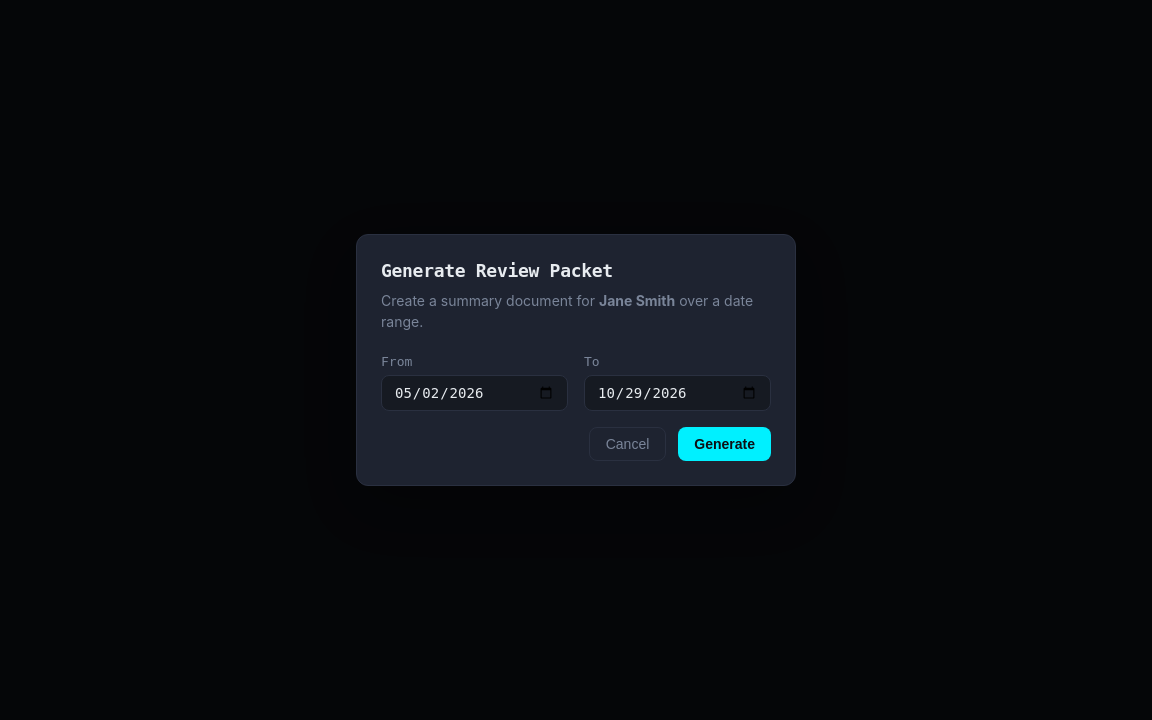
Scenario: ReviewPacketModal › should show validation error when dateTo is before dateFrom
The width and height of the screenshot is (1152, 720).
In the date field with test id "review-date-from": (474, 393) x1=381 y1=375 x2=568 y2=411, type "2024-06-30"
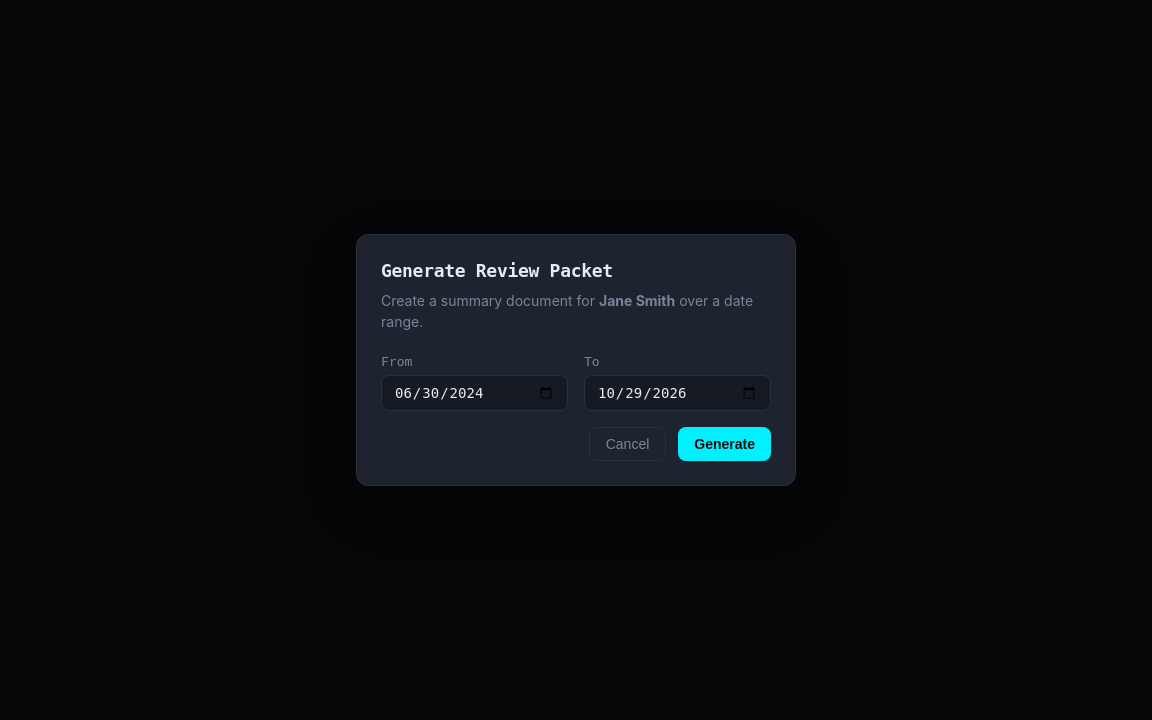
In the date field with test id "review-date-to": (678, 393) x1=584 y1=375 x2=771 y2=411, type "2024-01-01"
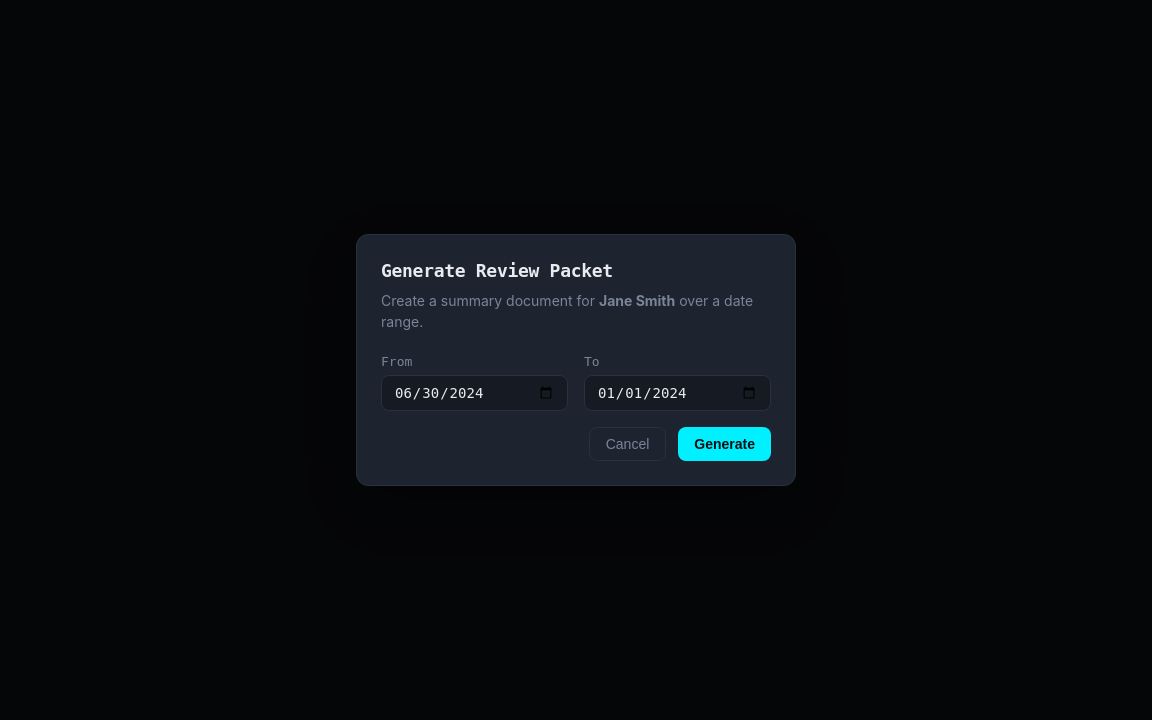
Click the button with test id "review-packet-generate": (725, 444) x1=678 y1=427 x2=771 y2=461
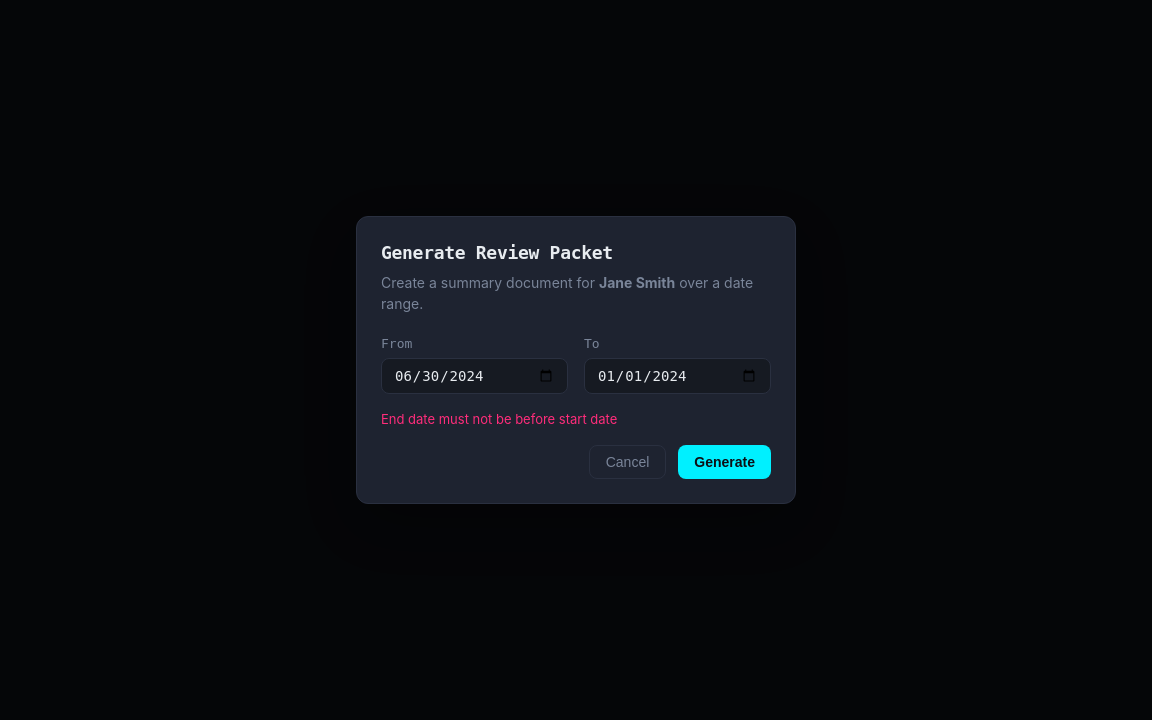
Now the text "End date must not be before start date" is shown, box x1=381 y1=411 x2=617 y2=427
